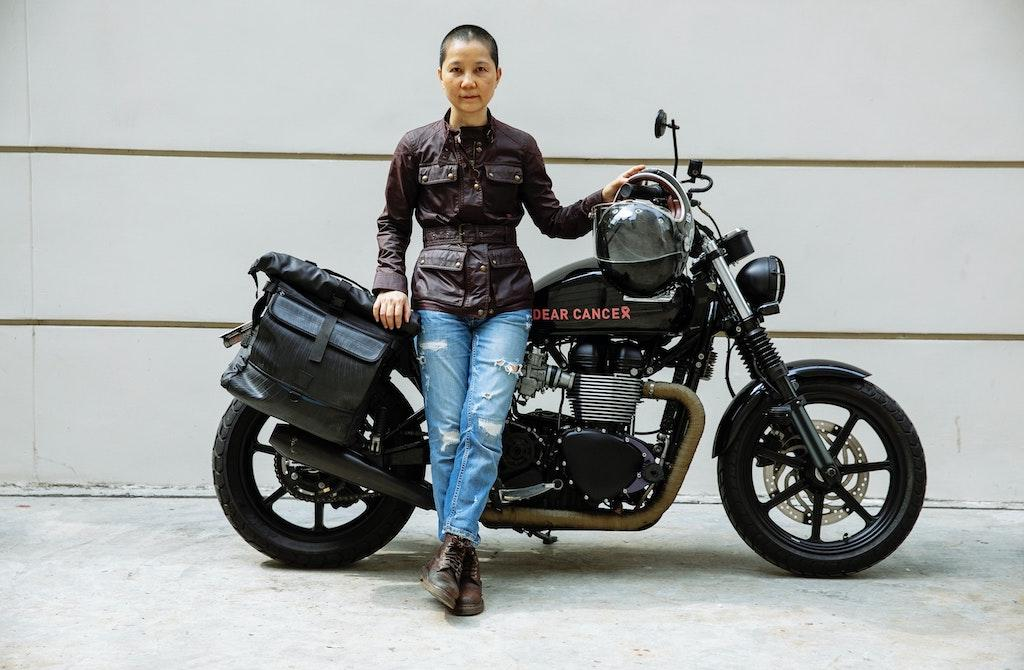helmet: (587, 167, 695, 299)
nohelmet: (436, 23, 503, 117)
